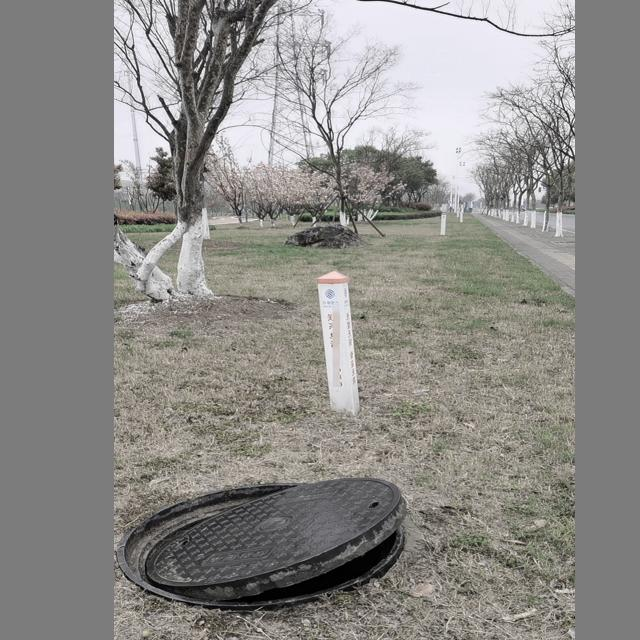uncovered: (117, 476, 410, 611)
